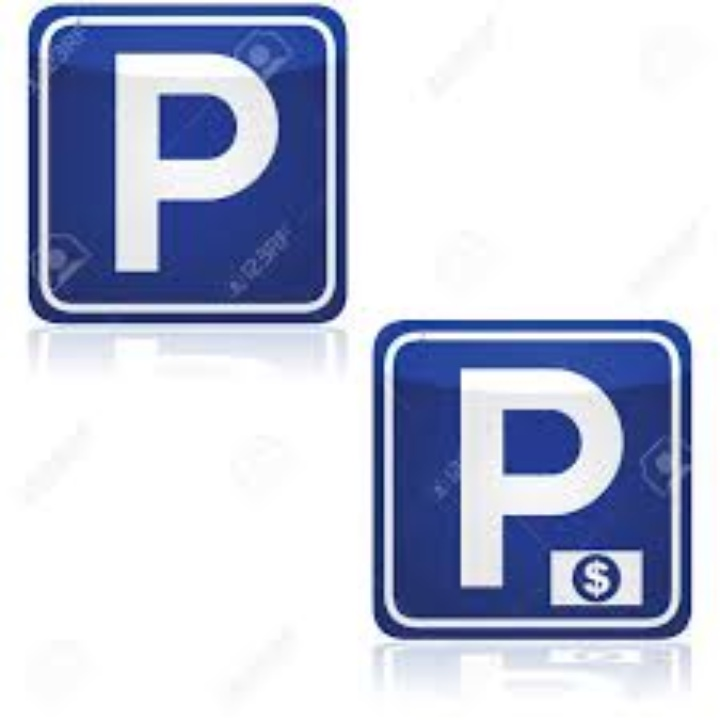park: (91, 34, 286, 283), (445, 351, 625, 597)
